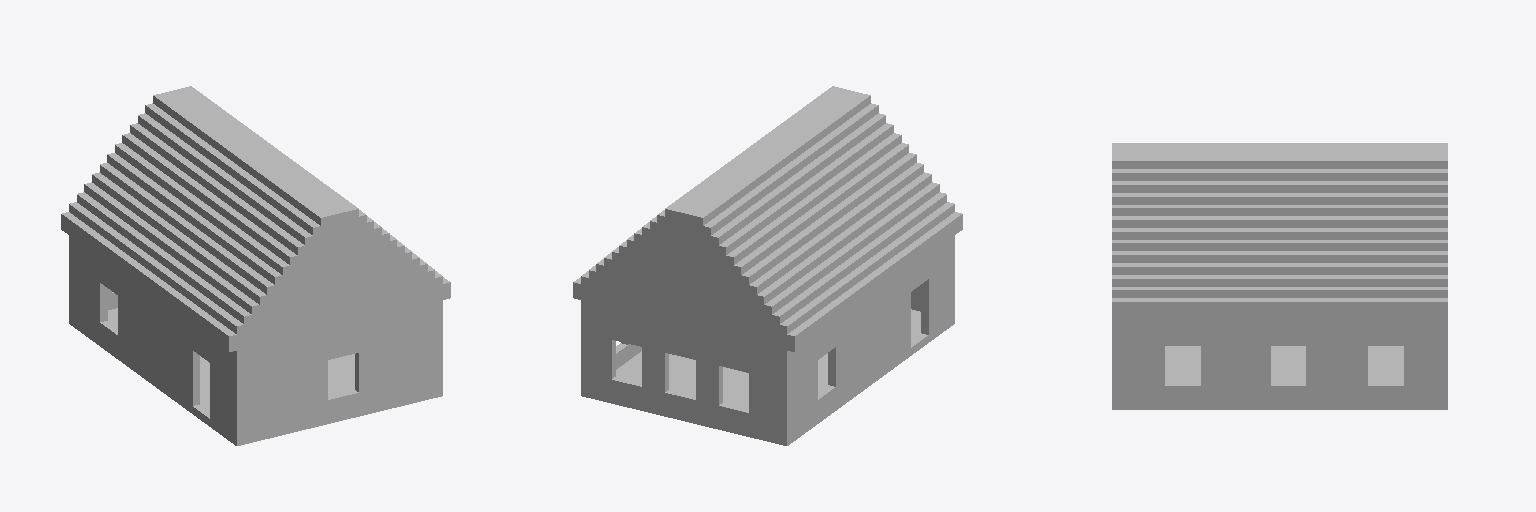
Rendered from house4.obj.
The picture shows the model from 3 angles: view 1: azimuth 30°, elevation 25°; view 2: azimuth 150°, elevation 25°; view 3: azimuth 270°, elevation 25°; orthographic projection.
Parts seen in each view (by area): view 1: object 1; view 2: object 1; view 3: object 1.
Boxes of the visible parts, <box> form: object 1: <box>61,86,450,445</box>; object 1: <box>573,86,962,445</box>; object 1: <box>1112,143,1447,409</box>.
Bounding box in the file's own units: 2.9 × 2.6 × 3.8.